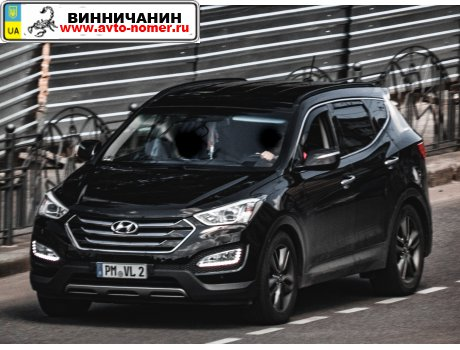License Plates: (99, 264, 147, 274)
